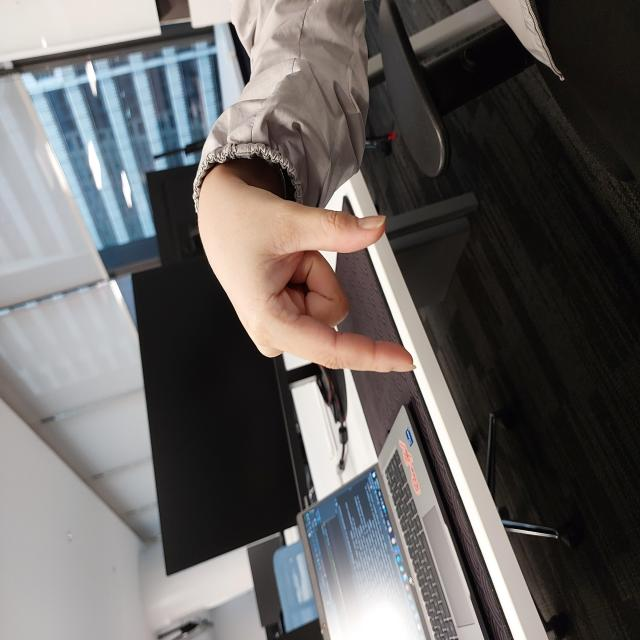Q: (266, 198, 452, 415)
